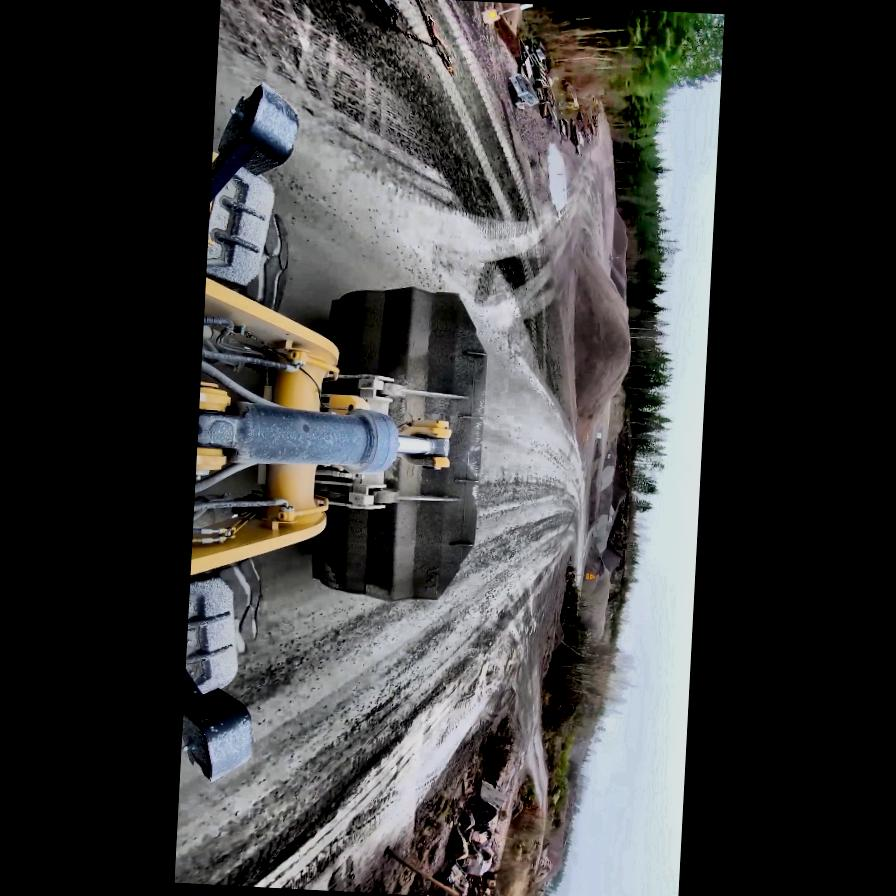anchor: (396, 418, 452, 469)
pile of gravel: (562, 266, 634, 436), (593, 438, 630, 534), (575, 551, 612, 643), (606, 210, 628, 297), (605, 393, 624, 452)
